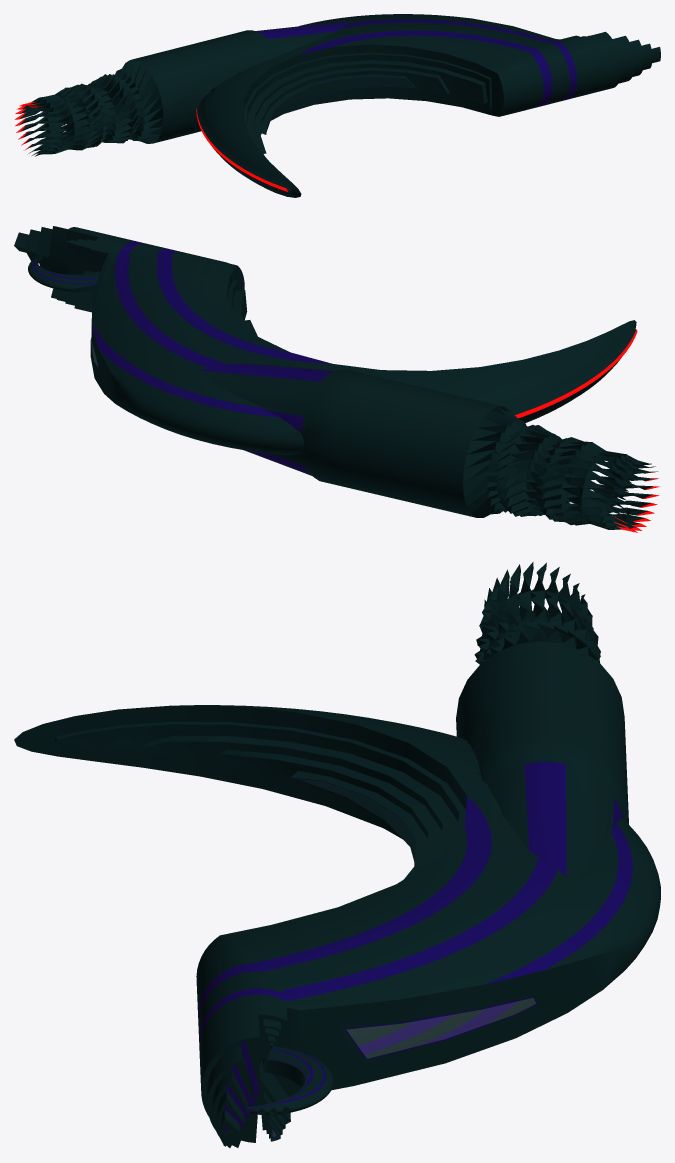
File: muddaship.fbx
3 views of the same model, one above another, from view 1: azimuth 30°, elevation 25°; view 2: azimuth 150°, elevation 25°; view 3: azimuth 270°, elevation 25° (orthographic). The views are drawn at different scales.
Visible parts, largest first — view 1: main_body, Cylinder; view 2: main_body, Cylinder, small_moon; view 3: main_body, Cylinder, small_moon.
Boxes of the visible parts, box(x1,y1,x2,y2) form: main_body: box(196, 14, 660, 197); Cylinder: box(14, 22, 347, 156); main_body: box(14, 226, 637, 455); Cylinder: box(200, 363, 659, 532); small_moon: box(28, 254, 100, 291); main_body: box(14, 705, 660, 1147); Cylinder: box(456, 562, 628, 875); small_moon: box(248, 1046, 333, 1114).
Bounding box in the file's own units: 3398 × 462 × 1770.
